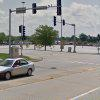Traffic light: (10, 18, 35, 50)
